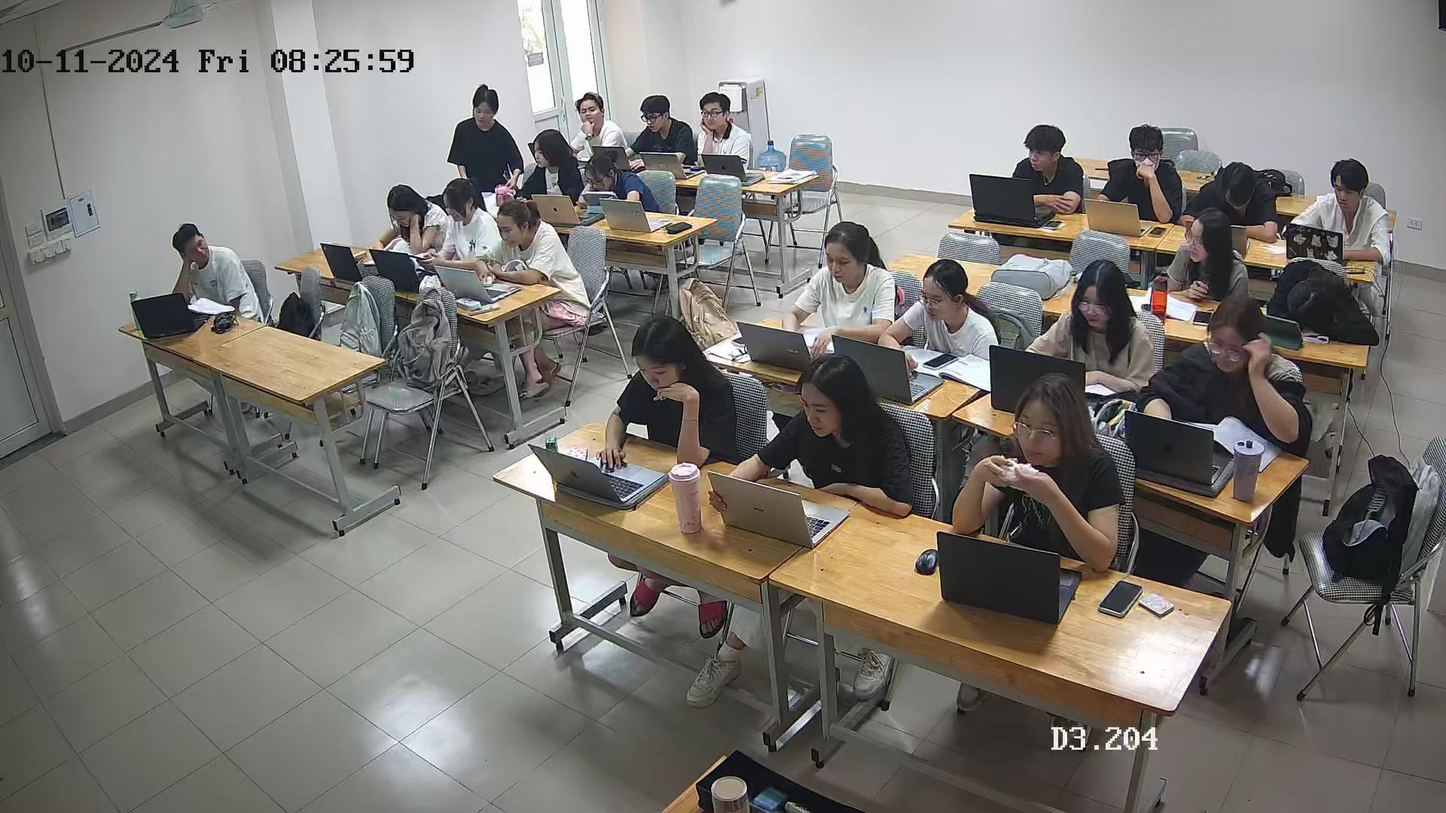Bend Over The Desk: (1270, 256, 1374, 337)
Look Around: (166, 212, 208, 277)
Stand Up: (447, 69, 514, 184)
